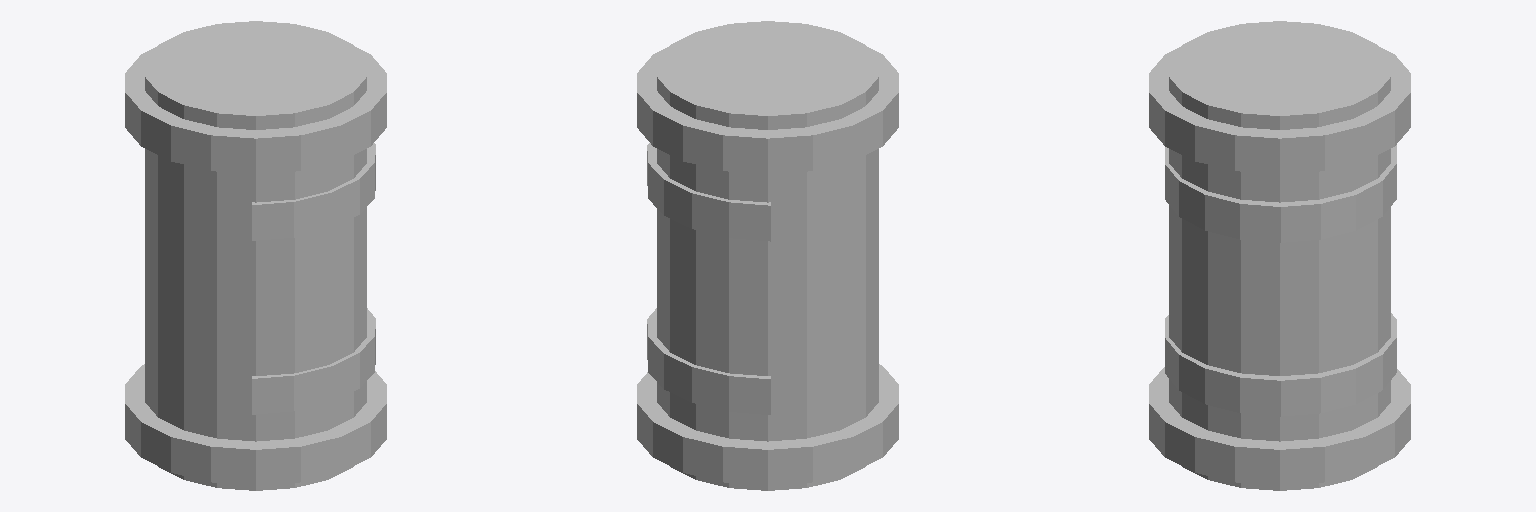
File: Energy_source.obj
3 views of the same model, side by side, from view 1: azimuth 30°, elevation 25°; view 2: azimuth 150°, elevation 25°; view 3: azimuth 270°, elevation 25° (orthographic).
Visible parts, largest first — view 1: pCylinder1, pCylinder2, pCylinder5, pCylinder6, pCylinder4; view 2: pCylinder1, pCylinder2, pCylinder5, pCylinder6, pCylinder4; view 3: pCylinder1, pCylinder2, pCylinder5, pCylinder6, pCylinder4.
Boxes of the visible parts, x1,y1,x2,y2 form: pCylinder1: [145, 21, 366, 490]; pCylinder2: [125, 47, 386, 173]; pCylinder5: [125, 364, 386, 485]; pCylinder6: [252, 308, 375, 414]; pCylinder4: [252, 143, 375, 240]; pCylinder1: [657, 21, 878, 490]; pCylinder2: [637, 47, 898, 173]; pCylinder5: [637, 364, 898, 485]; pCylinder6: [647, 308, 770, 414]; pCylinder4: [647, 143, 770, 241]; pCylinder1: [1169, 21, 1390, 490]; pCylinder2: [1149, 47, 1410, 173]; pCylinder5: [1149, 367, 1410, 485]; pCylinder6: [1165, 313, 1396, 416]; pCylinder4: [1165, 145, 1396, 242].
Bounding box in the file's own units: 2.35 × 3.67 × 2.32.